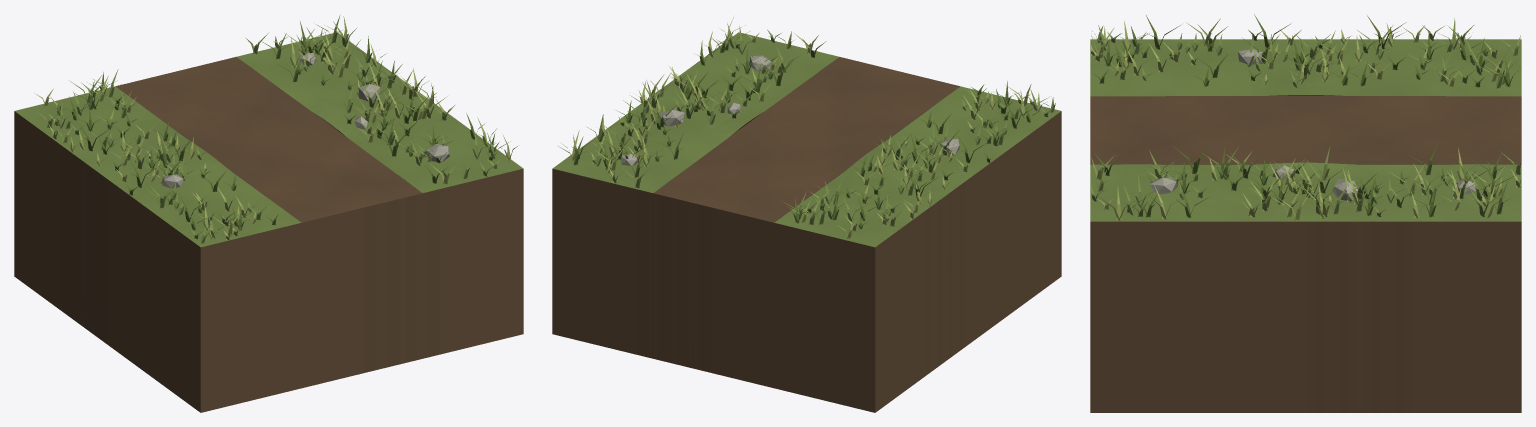
3 views of the same model, side by side, from view 1: azimuth 30°, elevation 25°; view 2: azimuth 150°, elevation 25°; view 3: azimuth 270°, elevation 25° (orthographic). The views are drawn at different scales.
Parts seen in each view (by area): view 1: T017_Earth, T017_Surface, T017_Vegetation; view 2: T017_Earth, T017_Surface, T017_Vegetation; view 3: T017_Earth, T017_Surface, T017_Vegetation.
Part boxes in pixels (<box>): T017_Earth: <box>14,111,523,412</box>; T017_Surface: <box>15,32,522,247</box>; T017_Vegetation: <box>34,15,517,243</box>; T017_Earth: <box>552,111,1061,412</box>; T017_Surface: <box>553,32,1060,247</box>; T017_Vegetation: <box>558,17,1055,238</box>; T017_Earth: <box>1090,95,1521,412</box>; T017_Surface: <box>1090,39,1521,221</box>; T017_Vegetation: <box>1091,14,1520,220</box>.
Bounding box in the file's own units: 2 × 1.11 × 2.
Materials: 5 (5 with a texture image).
